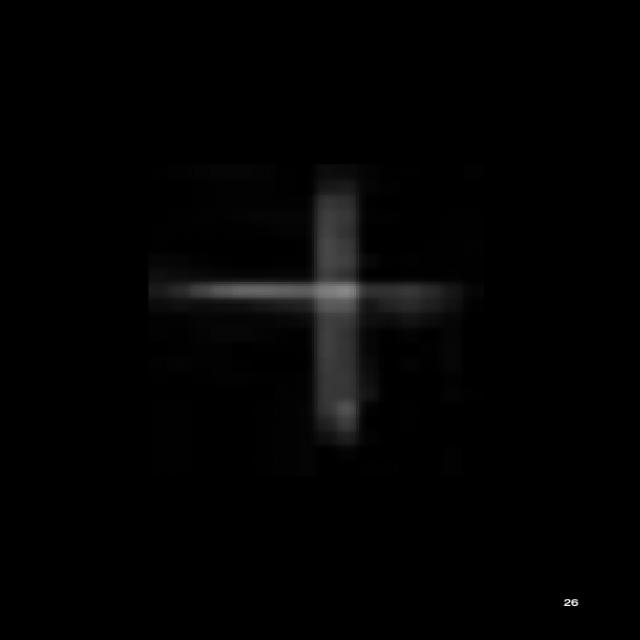10 -ten-: (166, 180, 454, 444)
